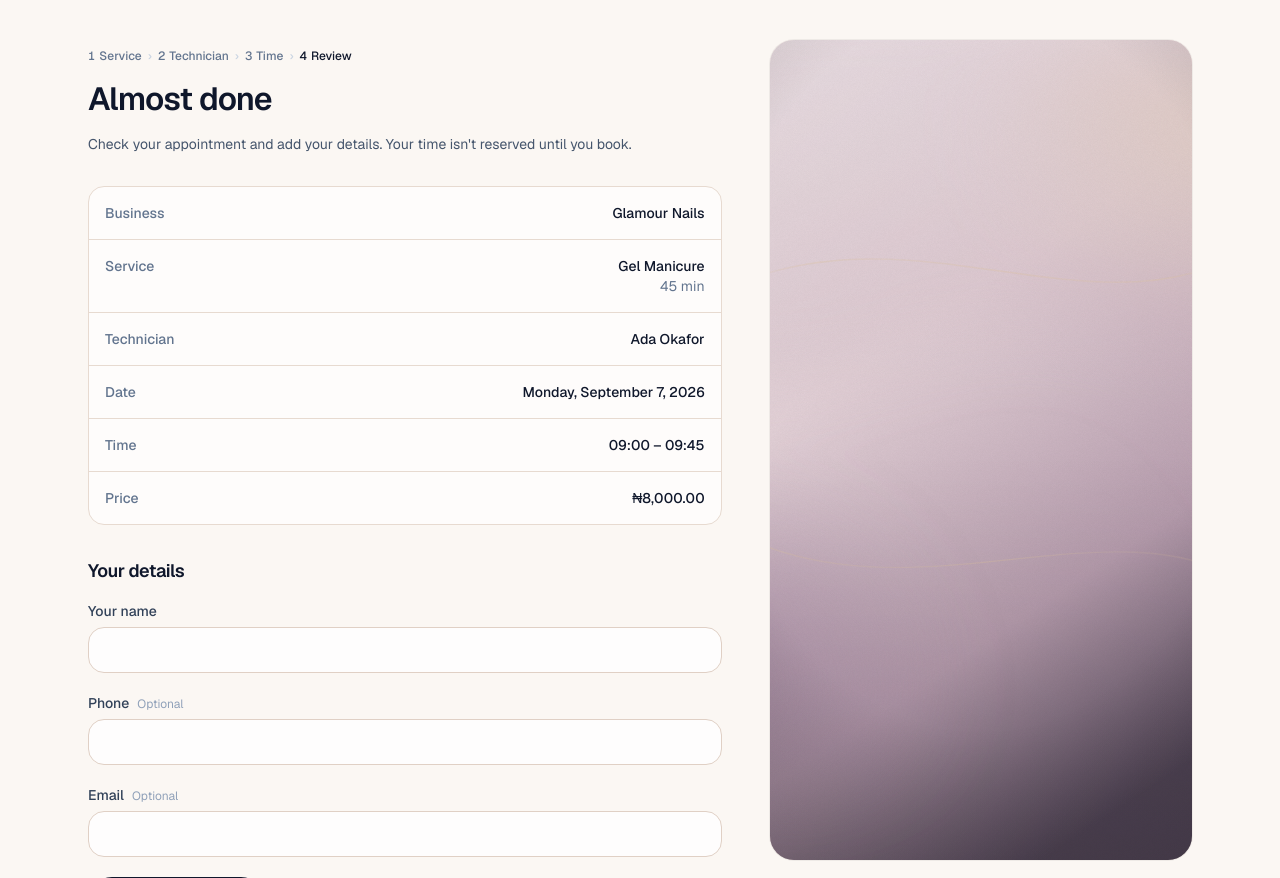
BookingReview — customer form validation › rejects an obviously malformed email without a backend round trip
The image size is (1280, 878).
Type "Jane Customer" into the field labelled "Your name".
click(405, 650); type("Jane Customer")  # box [88,627,722,673]
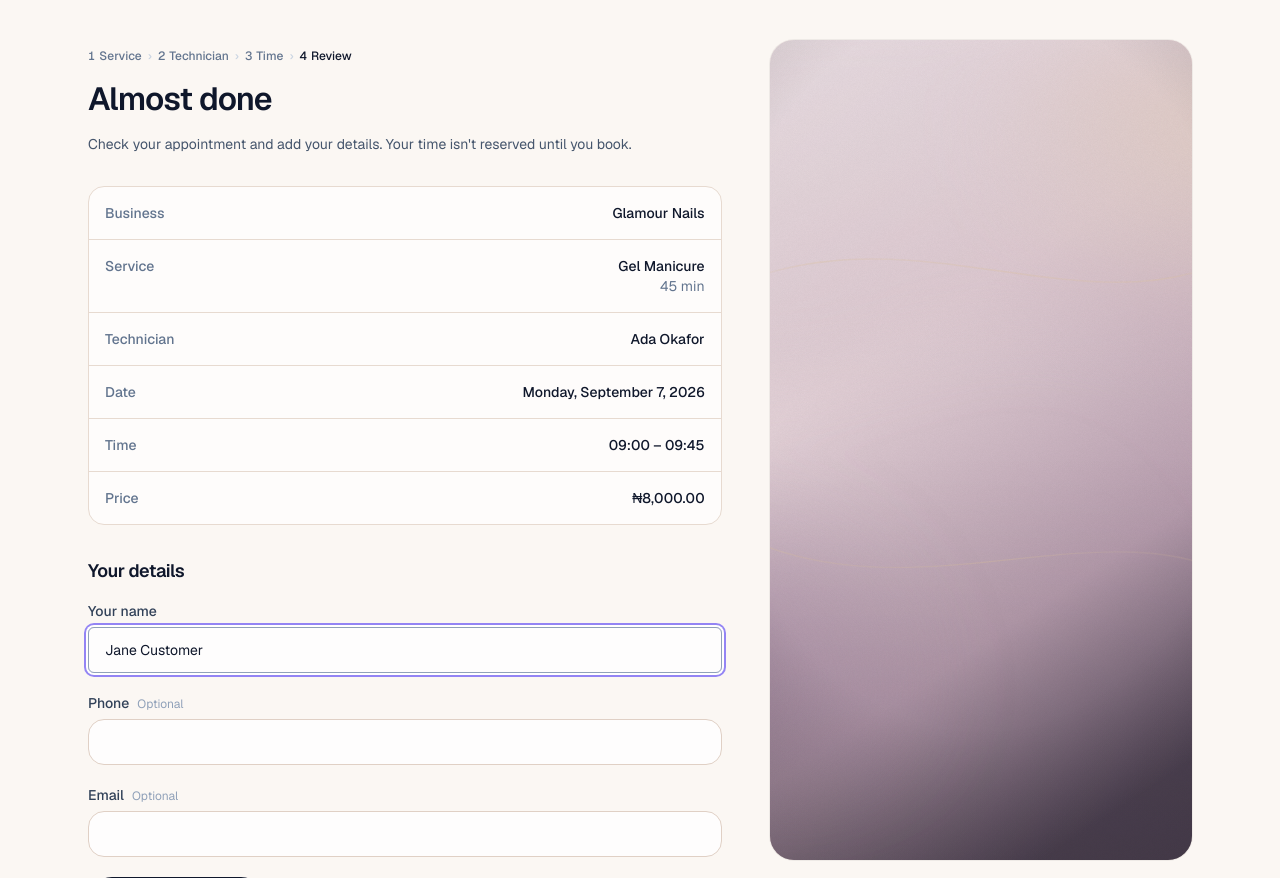
Type "not-an-email" into the field labelled "Email Optional".
click(405, 834); type("not-an-email")  # box [88,811,722,857]
(page scrolled)
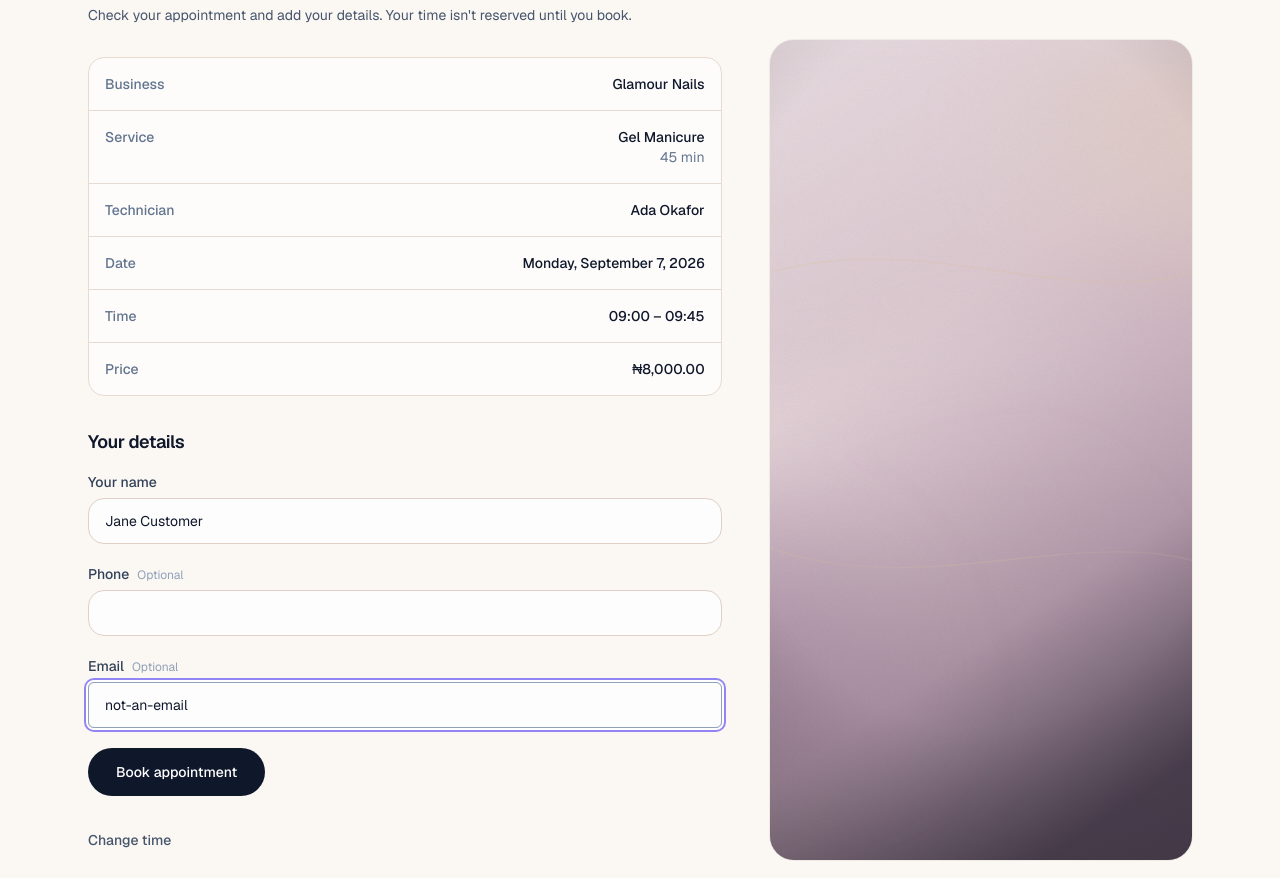
Click the button "Book appointment".
click(177, 772)  # box [88,748,265,796]
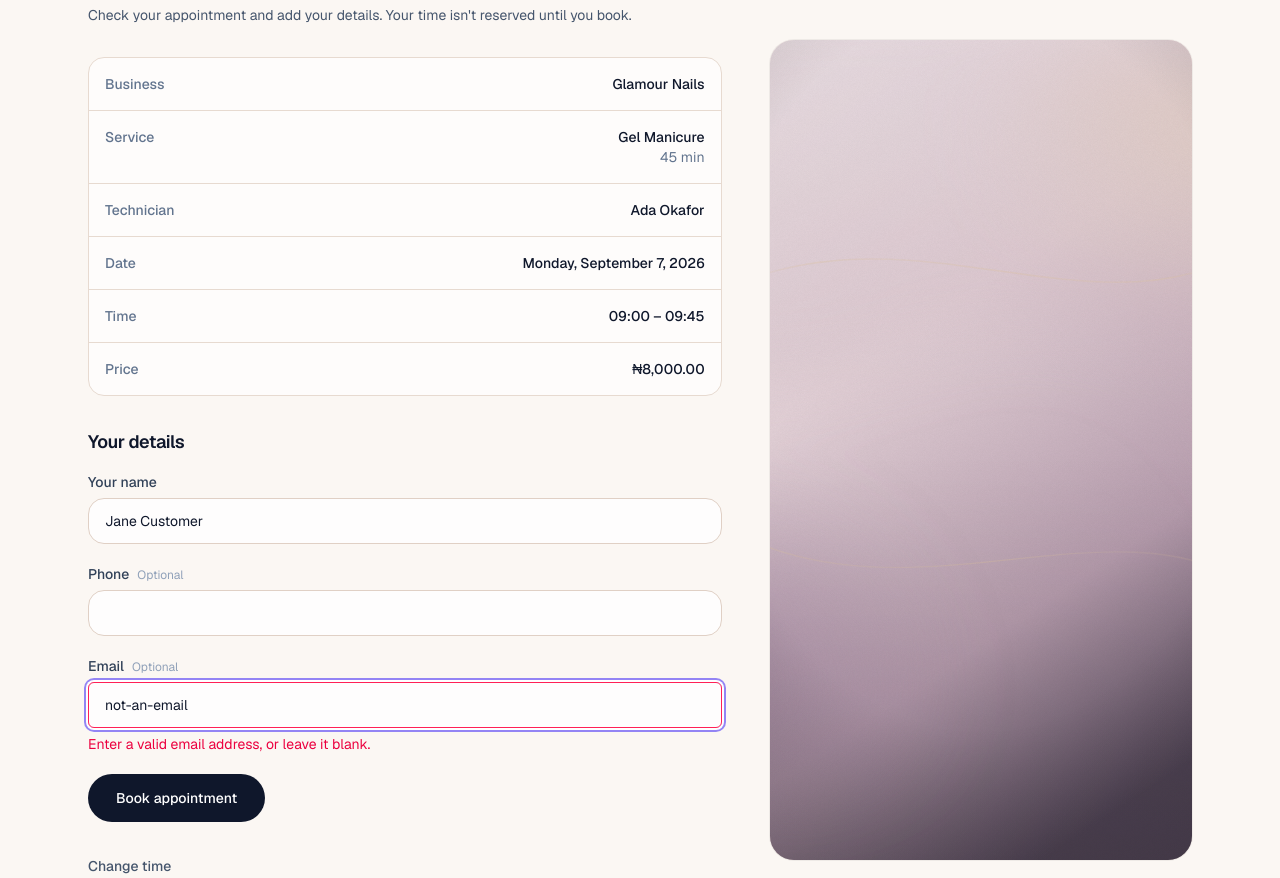
Expected: the text "Enter a valid email address, or leave it blank." is shown, [88,735,370,753]
